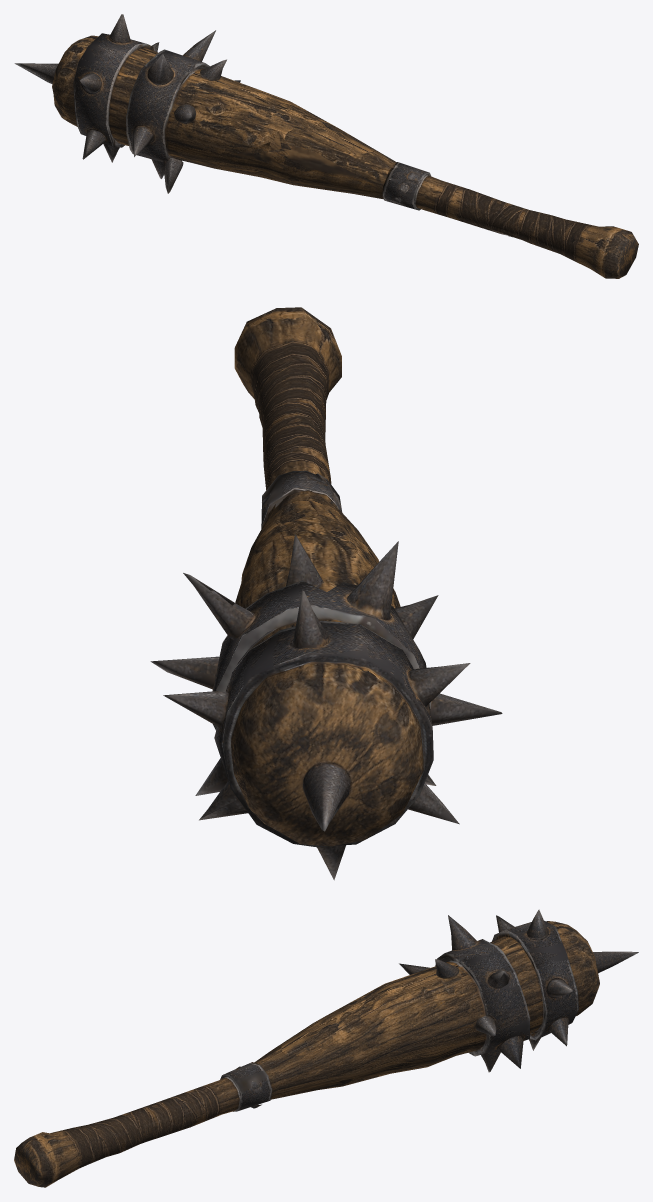
File: mm8_m440_club.glb
3 views of the same model, one above another, from view 1: azimuth 30°, elevation 25°; view 2: azimuth 150°, elevation 25°; view 3: azimuth 270°, elevation 25° (orthographic). The views are drawn at different scales.
Visible parts, largest first — view 1: Club; view 2: Club; view 3: Club.
Part boxes in pixels (x1,y1,x2,y2): Club: (14,14,638,278); Club: (150,307,502,880); Club: (14,909,638,1187).
Bounding box in the file's own units: 0.5776 × 0.2483 × 0.9052.
Materials: 1 (1 with a texture image).
